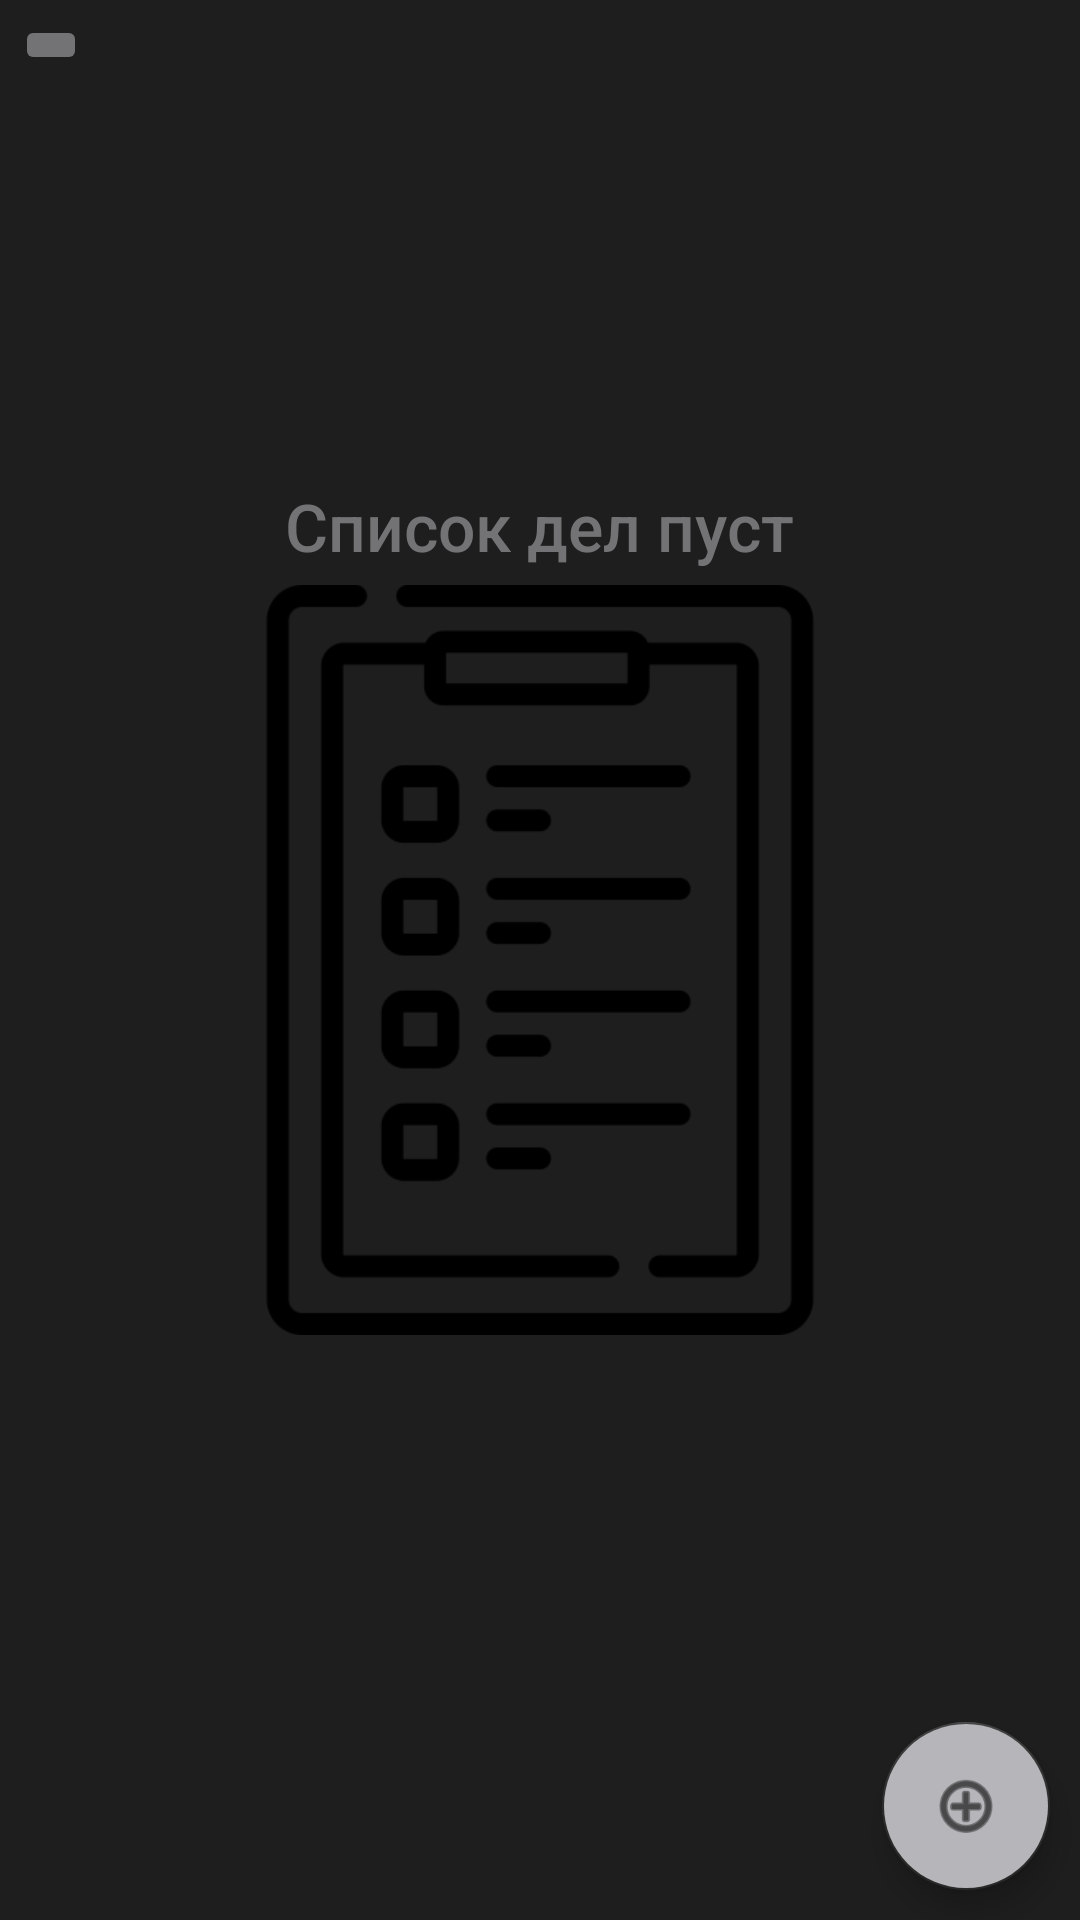

Point at icon controls on the screen. Image size 1080w x 1920h, points as [x,y].
add: [966,1805]
